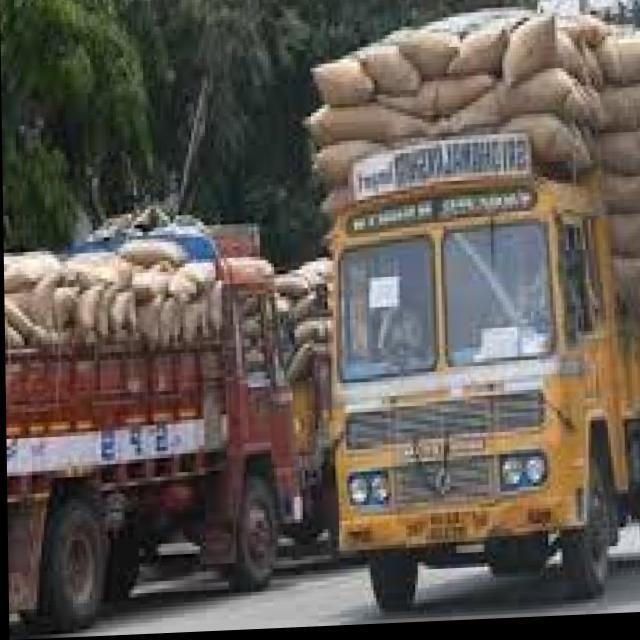uncovered: (334, 11, 640, 621), (3, 252, 274, 632)
